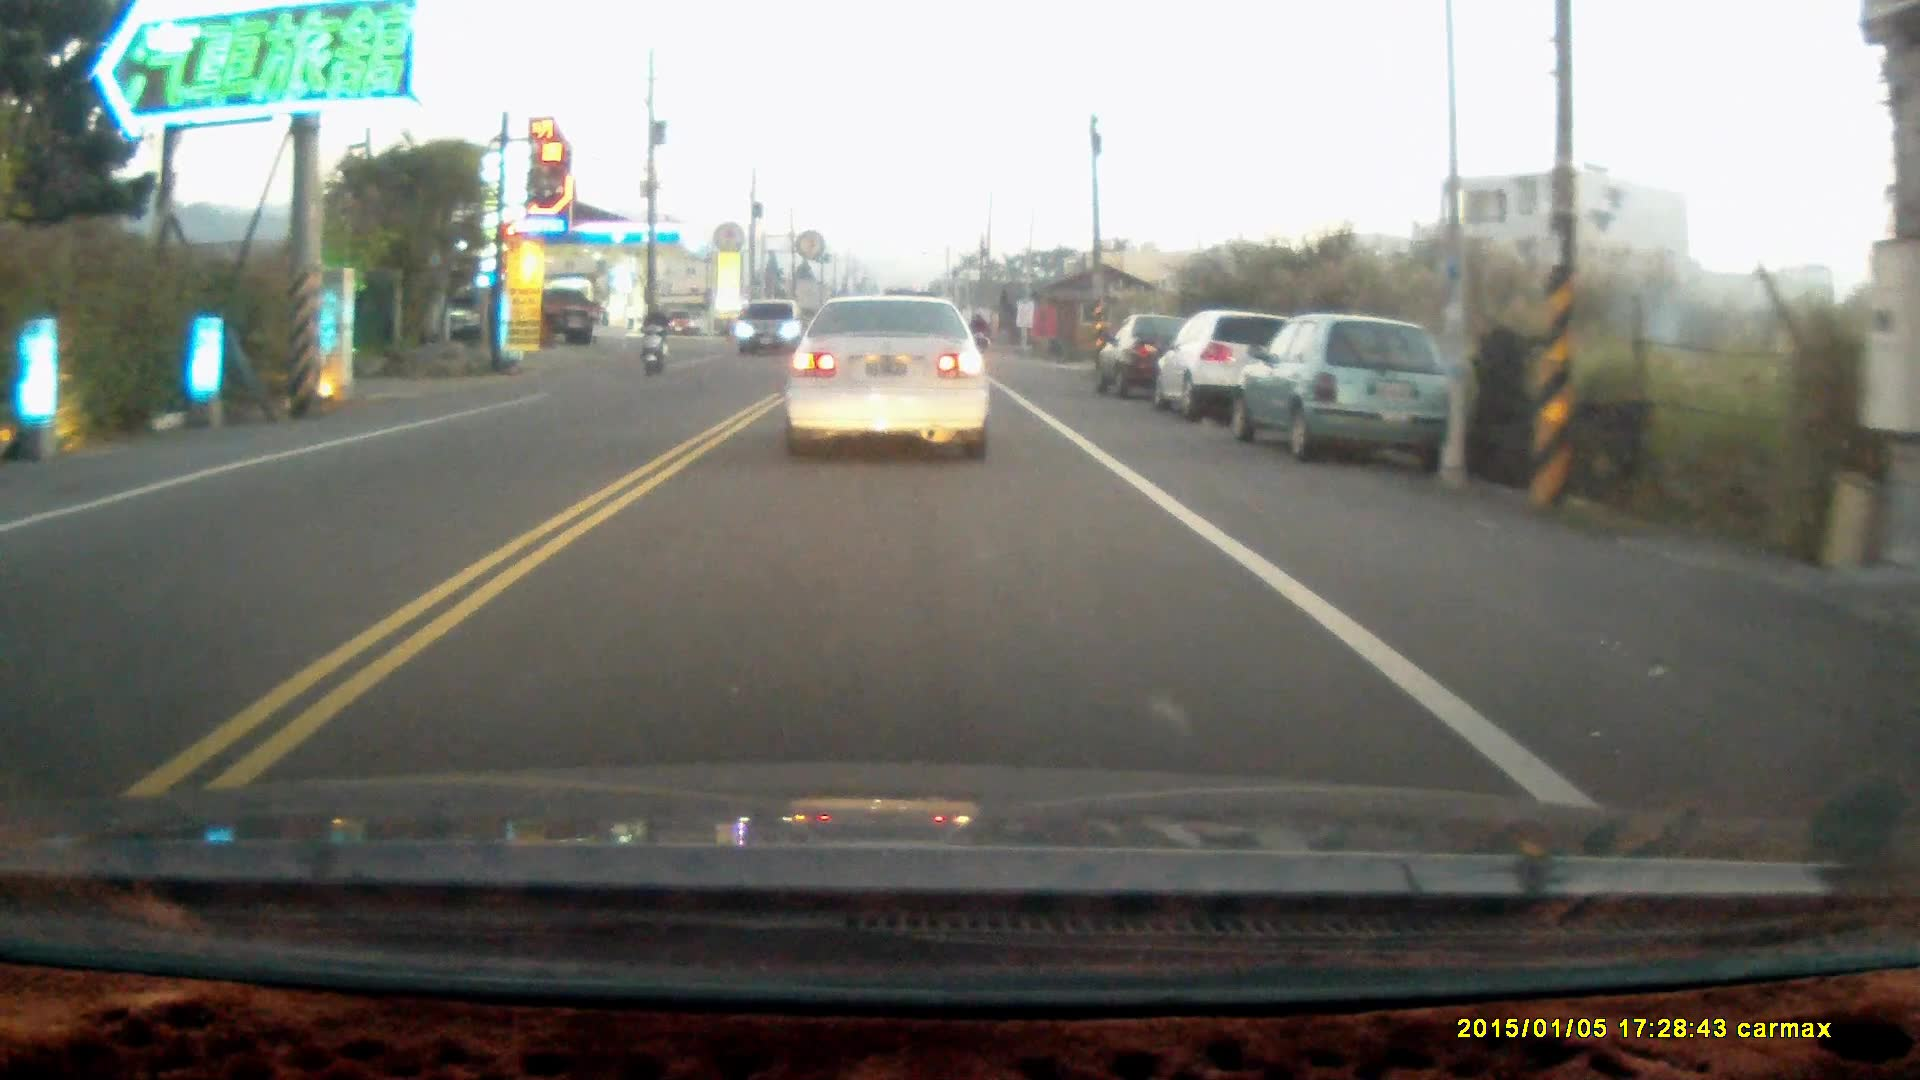rider: (637, 301, 670, 375)
vehicle: (786, 291, 997, 464), (1225, 312, 1457, 463), (1160, 309, 1295, 422), (1100, 313, 1196, 398), (742, 302, 807, 357)
